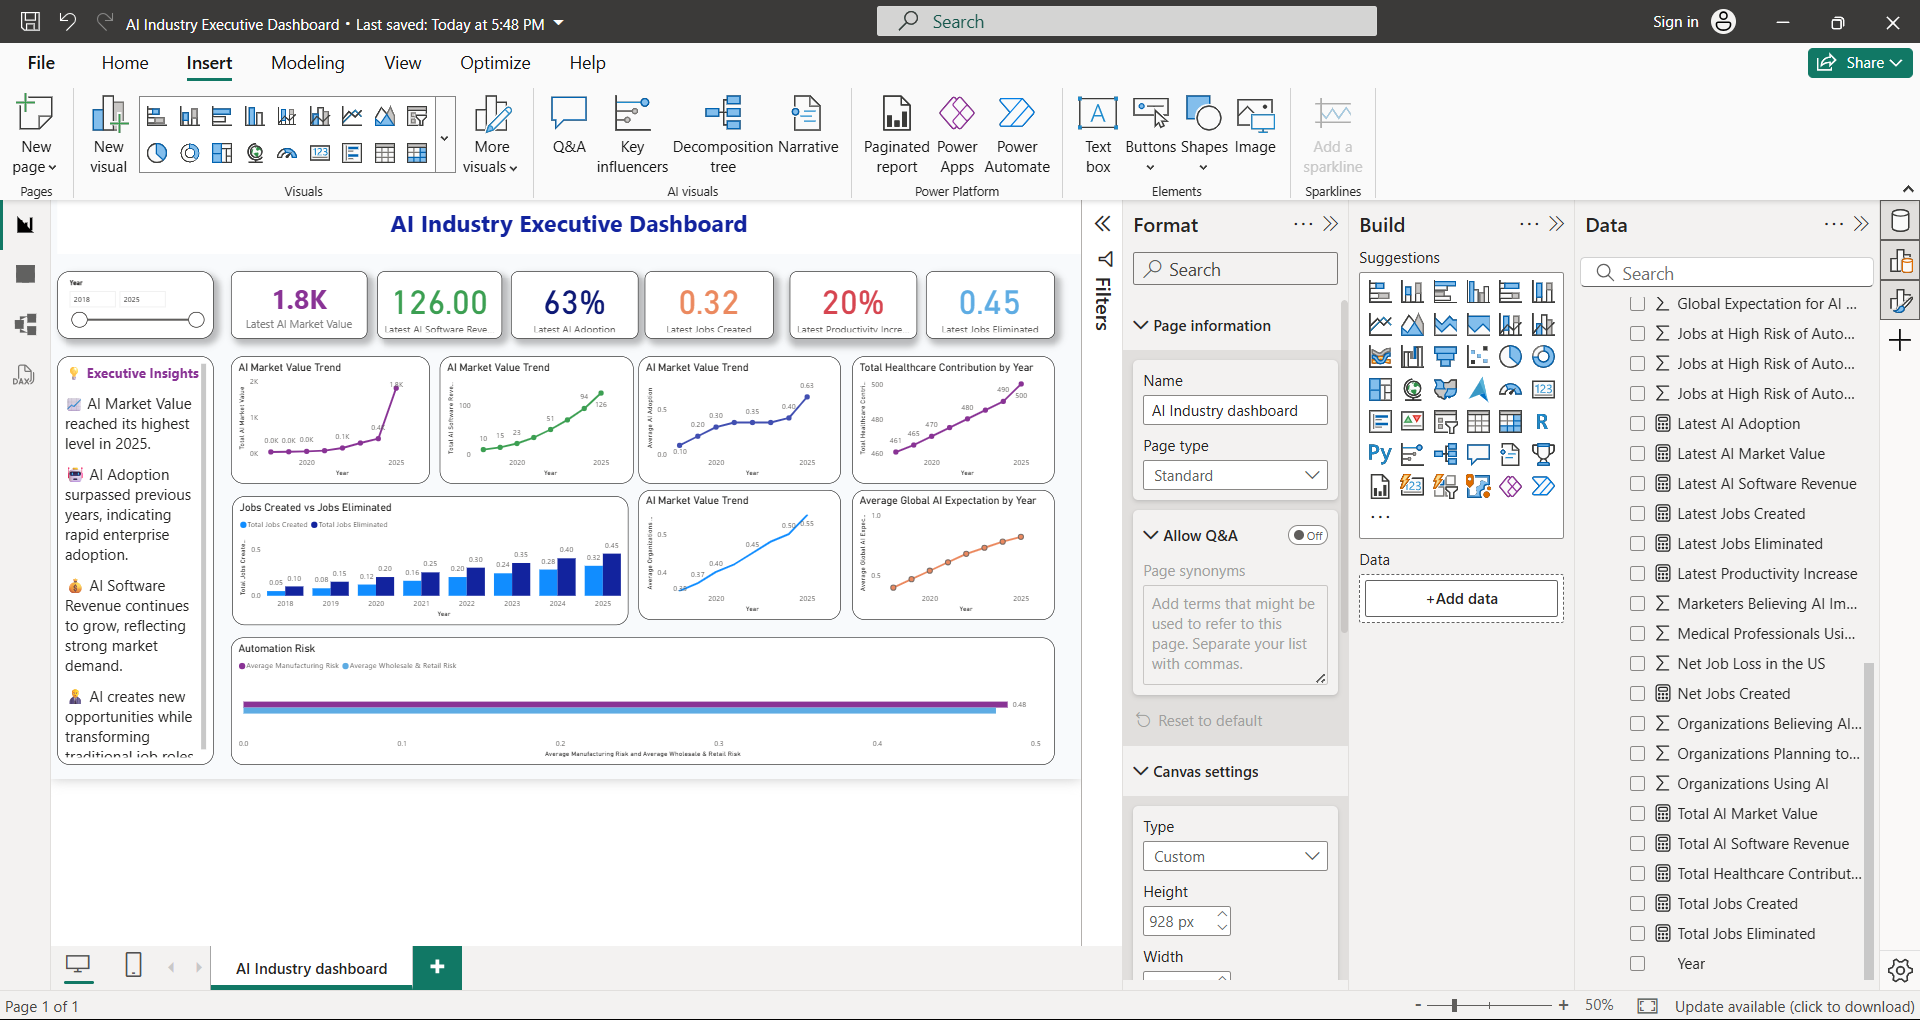

The dashboard page shown, as its layout file describes it:
{"tool":"powerbi","page":{"name":"AI Industry dashboard","canvas":[1650,928],"ordinal":0},"visuals":[{"type":"textbox","box":[10,0,1639.6,86.1],"z":0},{"type":"card","fields":{"Values":["The Rise Of Artificial Intellegence2.Latest AI Market Value"]},"box":[288.3,114.1,218.2,108.1],"z":1},{"type":"card","fields":{"Values":["The Rise Of Artificial Intellegence2.Latest AI Software Revenue"]},"box":[522.5,114.1,200.2,108.1],"z":2},{"type":"card","fields":{"Values":["The Rise Of Artificial Intellegence2.Latest AI Adoption"]},"box":[736.7,114.1,204.2,108.1],"z":3},{"type":"card","fields":{"Values":["The Rise Of Artificial Intellegence2.Latest Jobs Created"]},"box":[950.9,114.1,206.2,108.1],"z":4},{"type":"card","fields":{"Values":["The Rise Of Artificial Intellegence2.Latest Jobs Eliminated"]},"box":[1401.4,114.1,206.2,108.1],"z":5},{"type":"card","fields":{"Values":["The Rise Of Artificial Intellegence2.Latest Productivity Increase"]},"box":[1183.2,114.1,204.2,108.1],"z":6},{"type":"lineChart","title":"AI Market Value Trend","fields":{"Category":["The Rise Of Artificial Intellegence2.Year"],"Y":["The Rise Of Artificial Intellegence2.Total AI Market Value"]},"box":[288.3,250.2,318.3,204.2],"z":7},{"type":"lineChart","title":"AI Market Value Trend","fields":{"Category":["The Rise Of Artificial Intellegence2.Year"],"Y":["The Rise Of Artificial Intellegence2.Total AI Software Revenue"]},"box":[622.6,250.2,310.3,204.2],"z":8},{"type":"lineChart","title":"AI Market Value Trend","fields":{"Category":["The Rise Of Artificial Intellegence2.Year"],"Y":["The Rise Of Artificial Intellegence2.Average AI Adoption"]},"box":[940.9,250.2,324.3,204.2],"z":9},{"type":"lineChart","title":"AI Market Value Trend","fields":{"Category":["The Rise Of Artificial Intellegence2.Year"],"Y":["The Rise Of Artificial Intellegence2.Average Organizations Using AI"]},"box":[940.9,464.5,324.3,208.2],"z":10},{"type":"clusteredColumnChart","title":"Jobs Created vs Jobs Eliminated","fields":{"Category":["The Rise Of Artificial Intellegence2.Year"],"Y":["The Rise Of Artificial Intellegence2.Total Jobs Created","The Rise Of Artificial Intellegence2.Total Jobs Eliminated"]},"box":[290.3,474.5,634.6,206.2],"z":11},{"type":"lineChart","fields":{"Category":["The Rise Of Artificial Intellegence2.Year"],"Y":["The Rise Of Artificial Intellegence2.Total Healthcare Contribution"]},"box":[1283.3,250.2,324.3,204.2],"z":12},{"type":"lineChart","fields":{"Category":["The Rise Of Artificial Intellegence2.Year"],"Y":["The Rise Of Artificial Intellegence2.Average Global AI Expectation"]},"box":[1283.3,464.5,324.3,208.2],"z":13},{"type":"clusteredBarChart","title":"Automation Risk","fields":{"Y":["The Rise Of Artificial Intellegence2.Average Manufacturing Risk","The Rise Of Artificial Intellegence2.Average Wholesale & Retail Risk"]},"box":[288.3,700.7,1319.3,204.2],"z":14},{"type":"slicer","fields":{"Values":["The Rise Of Artificial Intellegence2.Year"]},"box":[10,114.1,250.2,108.1],"z":15},{"type":"textbox","box":[10,250.2,250.2,654.6],"z":16}]}

Visuals, with their boxes on the page's 1650x928 design canvas (x1, y1, x2, y2). These are canvas units, not pixel positions in the 1920x1020 screenshot, which may show the page scaled, cropped or inside an application window:
textbox: 10,0,1650,86
card - The Rise Of Artificial Intellegence2.Latest AI Market Value: 288,114,506,222
card - The Rise Of Artificial Intellegence2.Latest AI Software Revenue: 522,114,723,222
card - The Rise Of Artificial Intellegence2.Latest AI Adoption: 737,114,941,222
card - The Rise Of Artificial Intellegence2.Latest Jobs Created: 951,114,1157,222
card - The Rise Of Artificial Intellegence2.Latest Jobs Eliminated: 1401,114,1608,222
card - The Rise Of Artificial Intellegence2.Latest Productivity Increase: 1183,114,1387,222
"AI Market Value Trend" lineChart: 288,250,607,454
"AI Market Value Trend" lineChart: 623,250,933,454
"AI Market Value Trend" lineChart: 941,250,1265,454
"AI Market Value Trend" lineChart: 941,464,1265,673
"Jobs Created vs Jobs Eliminated" clusteredColumnChart: 290,474,925,681
lineChart - The Rise Of Artificial Intellegence2.Year x The Rise Of Artificial Intellegence2.Total Healthcare Contribution: 1283,250,1608,454
lineChart - The Rise Of Artificial Intellegence2.Year x The Rise Of Artificial Intellegence2.Average Global AI Expectation: 1283,464,1608,673
"Automation Risk" clusteredBarChart: 288,701,1608,905
slicer - The Rise Of Artificial Intellegence2.Year: 10,114,260,222
textbox: 10,250,260,905
